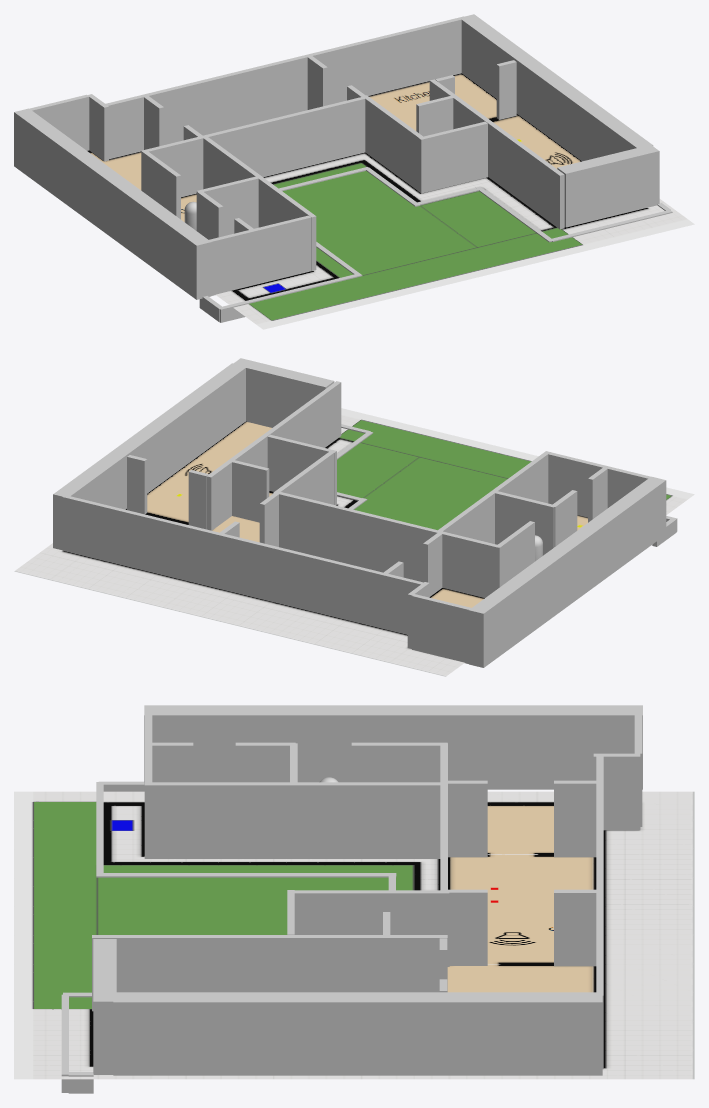
The model's file is blockedleve.fbx.
3 renders of one model, top to bottom at view 1: azimuth 30°, elevation 25°; view 2: azimuth 150°, elevation 25°; view 3: azimuth 270°, elevation 25°, orthographic. The views are drawn at different scales.
Parts seen in each view (by area): view 1: Plane, wall__22_, wall, wall__1_, wall__6_, wall__2_, wall__11_, wall__3_, wall__4_, wall__8_, wall__5_, wall__10_ (+10 smaller); view 2: Plane, wall__22_, wall, wall__6_, wall__1_, wall__3_, wall__2_, wall__23_, wall__8_, wall__11_, wall__10_, wall__4_ (+9 smaller); view 3: Plane, wall__1_, wall, wall__8_, wall__3_, wall__5_, wall__7_, wall__27_, wall__25_, wall__26_, wall__24_, wall__2_ (+8 smaller).
Boxes of the visible parts, <box> form: Plane: <box>87,73,694,329</box>; wall__22_: <box>102,16,465,159</box>; wall: <box>14,108,211,299</box>; wall__1_: <box>460,14,653,161</box>; wall__6_: <box>142,96,365,197</box>; wall__2_: <box>557,145,659,227</box>; wall__11_: <box>202,215,311,295</box>; wall__3_: <box>429,79,564,229</box>; wall__4_: <box>418,121,487,193</box>; wall__8_: <box>203,137,316,270</box>; wall__5_: <box>363,95,422,190</box>; wall__10_: <box>197,176,258,236</box>; Plane: <box>14,408,694,676</box>; wall__22_: <box>62,495,425,634</box>; wall: <box>468,477,666,667</box>; wall__6_: <box>278,492,499,597</box>; wall__1_: <box>53,363,245,550</box>; wall__3_: <box>206,381,341,530</box>; wall__2_: <box>232,358,334,427</box>; wall__23_: <box>412,594,479,663</box>; wall__8_: <box>438,451,550,543</box>; wall__11_: <box>548,452,658,517</box>; wall__10_: <box>495,491,555,555</box>; wall__4_: <box>267,434,336,505</box>; Plane: <box>14,791,694,1079</box>; wall__1_: <box>113,992,602,1075</box>; wall: <box>144,705,642,789</box>; wall__8_: <box>144,782,440,858</box>; wall__3_: <box>92,935,447,1011</box>; wall__5_: <box>294,890,449,966</box>; wall__7_: <box>351,742,447,782</box>; wall__27_: <box>554,889,596,966</box>; wall__25_: <box>554,780,596,857</box>; wall__26_: <box>447,780,487,857</box>; wall__24_: <box>593,753,640,830</box>; wall__2_: <box>93,939,116,1074</box>.
Bounding box in the file's own units: 3011 × 422 × 2885.
2 materials, 1 textured.
